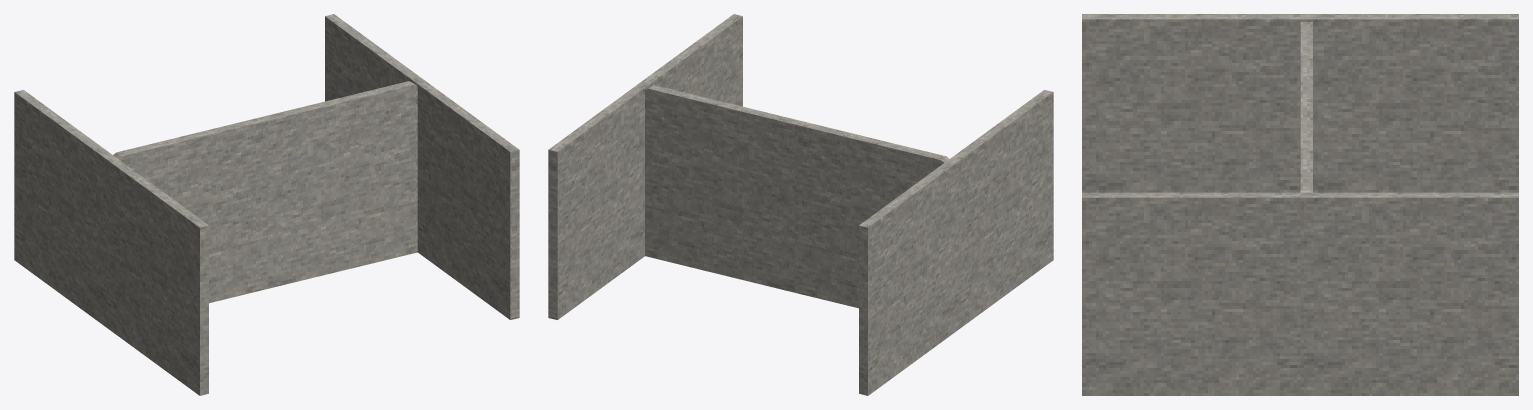
The model's file is divider_full_h.glb.
3 views of the same model, side by side, from view 1: azimuth 30°, elevation 25°; view 2: azimuth 150°, elevation 25°; view 3: azimuth 270°, elevation 25° (orthographic). The views are drawn at different scales.
Visible parts, largest first — view 1: divider_full_h; view 2: divider_full_h; view 3: divider_full_h.
Boxes of the visible parts, box(x1,y1,x2,y2) form: divider_full_h: box(14, 14, 519, 395); divider_full_h: box(548, 14, 1053, 395); divider_full_h: box(1082, 14, 1518, 395).
Bounding box in the file's own units: 2.99 × 1.5 × 3.
Materials: 1 (1 with a texture image).
